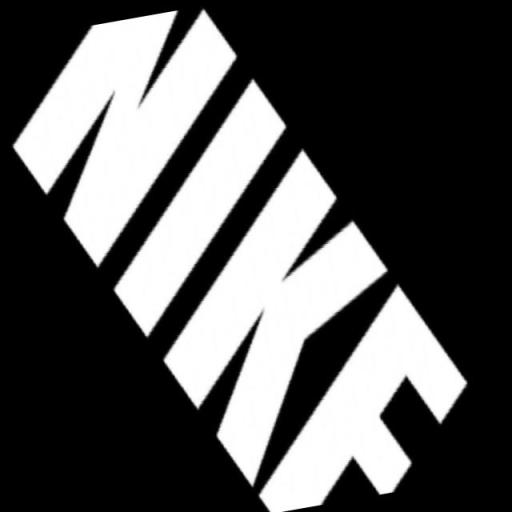Nike: (0, 0, 486, 512)
